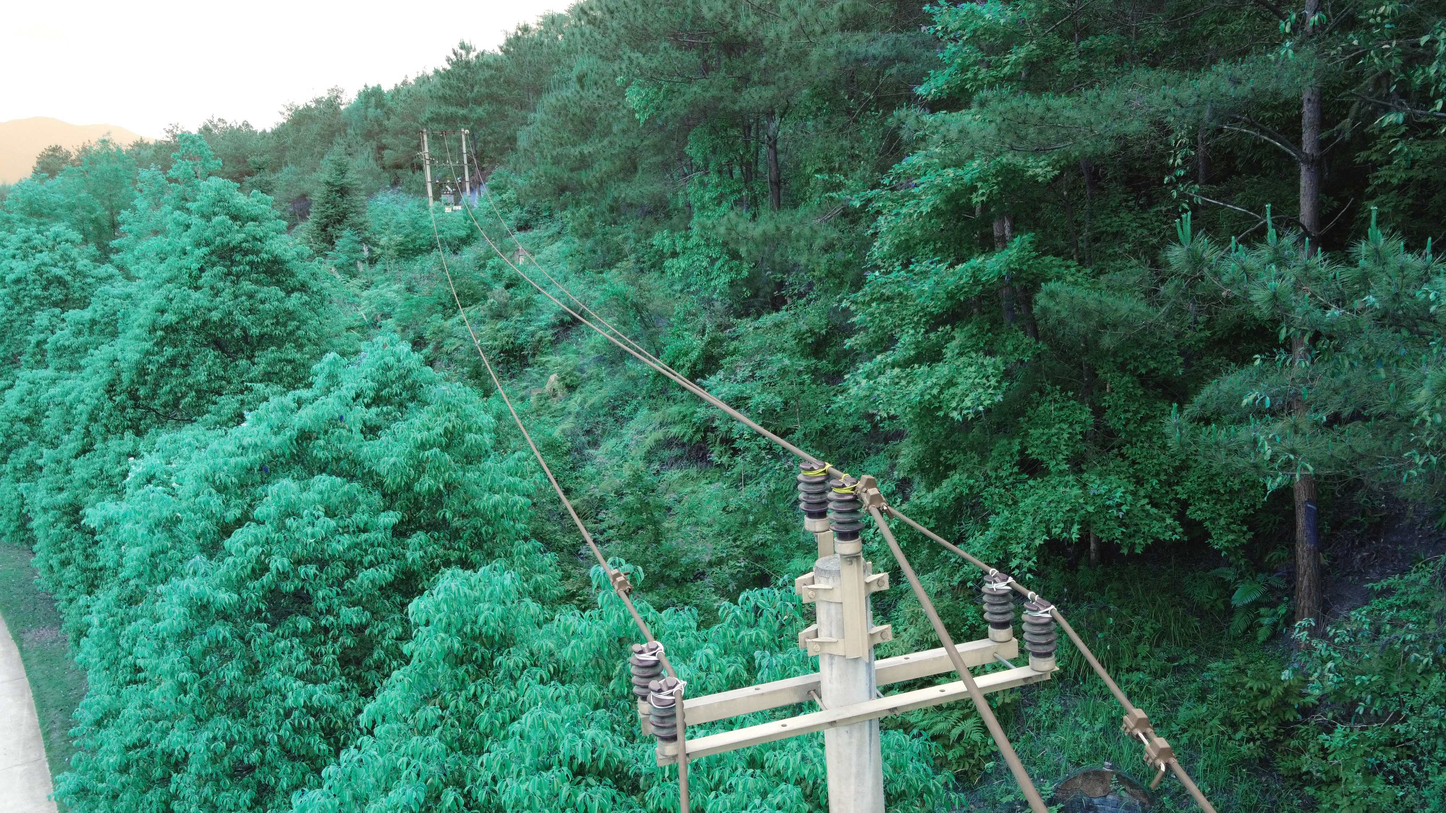severe_soiling_no_discharge_whole: (643, 672, 688, 756), (826, 477, 865, 554), (1019, 599, 1059, 667), (628, 640, 665, 711), (980, 569, 1016, 641), (796, 460, 831, 533)
